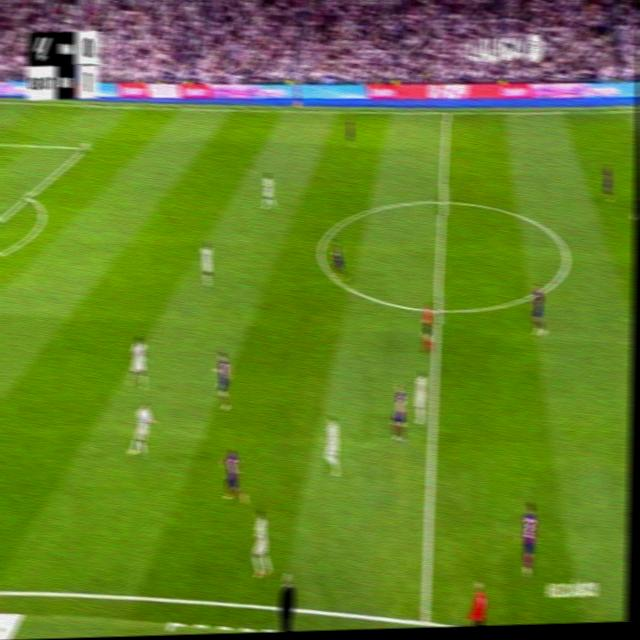bigarea_top_inner: (80, 139, 90, 155)
halfcircle_bottom: (431, 294, 446, 324)
halfcircle_top: (436, 187, 451, 215)
midline_bottom_intersection: (415, 598, 436, 627)
midline_top_intersection: (442, 105, 452, 121)
top_arc_area_intersection: (24, 187, 34, 203)
